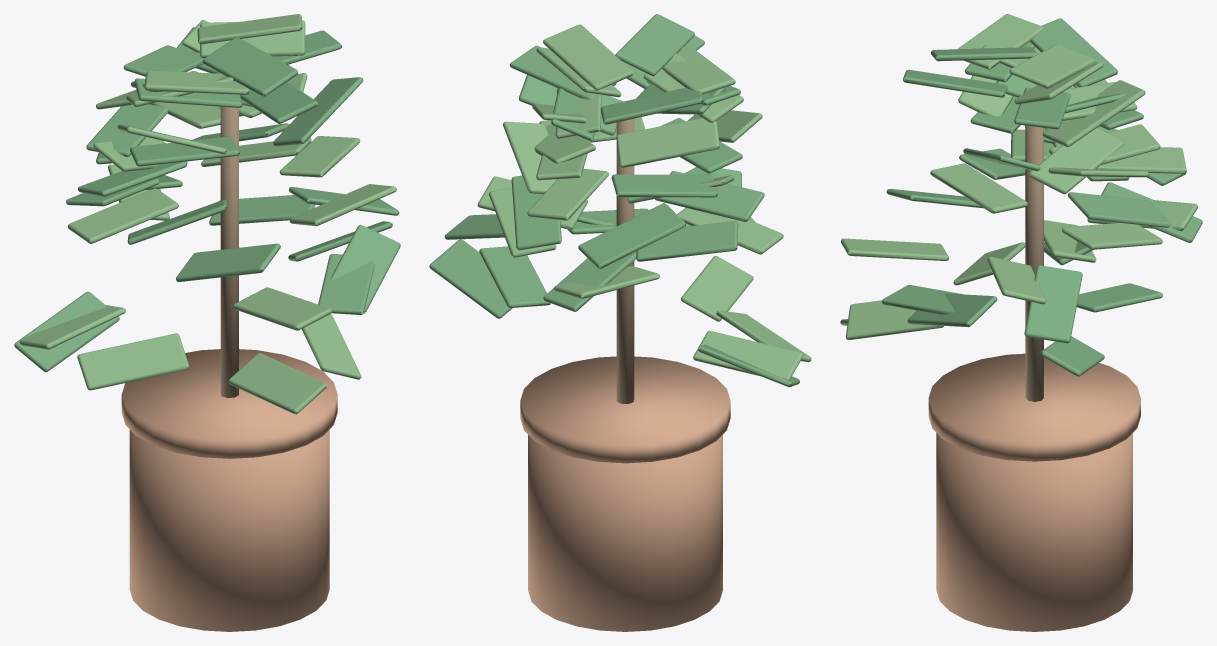
Rendered from mueble.planta.fbx.
The picture shows the model from 3 angles, left to right: view 1: azimuth 30°, elevation 25°; view 2: azimuth 150°, elevation 25°; view 3: azimuth 270°, elevation 25°; orthographic projection. The views are drawn at different scales.
Parts seen in each view (by area): view 1: Macetero, Borde del macetero, Tronco, Hoja.001, Hoja.029, Hoja.014, Hoja.041, Hoja.034, Hoja.022, Hoja.015, Hoja.008, Hoja.018 (+25 smaller); view 2: Macetero, Borde del macetero, Hoja.023, Tronco, Hoja.040, Hoja.005, Hoja.042, Hoja.014, Hoja.009, Hoja.044, Hoja.010, Hoja.029 (+28 smaller); view 3: Macetero, Borde del macetero, Tronco, Hoja.016, Hoja.043, Hoja.031, Hoja.003, Hoja.032, Hoja.005, Hoja.027, Hoja.011, Hoja.033 (+26 smaller).
Part boxes in pixels (box(x1,y1,x2,y2)): Macetero: box(129, 430, 329, 631); Borde del macetero: box(121, 349, 337, 458); Tronco: box(220, 106, 238, 397); Hoja.001: box(77, 333, 189, 390); Hoja.029: box(228, 353, 326, 414); Hoja.014: box(202, 37, 298, 96); Hoja.041: box(67, 188, 178, 243); Hoja.034: box(14, 291, 119, 372); Hoja.022: box(176, 243, 280, 281); Hoja.015: box(233, 287, 331, 330); Hoja.008: box(331, 225, 400, 313); Hoja.018: box(318, 254, 374, 314); Macetero: box(528, 435, 722, 631); Borde del macetero: box(520, 356, 730, 463); Hoja.023: box(616, 118, 719, 167); Tronco: box(616, 118, 634, 403); Hoja.040: box(578, 203, 685, 268); Hoja.005: box(543, 24, 633, 90); Hoja.042: box(429, 239, 512, 318); Hoja.014: box(615, 14, 694, 76); Hoja.009: box(693, 330, 803, 380); Hoja.044: box(636, 221, 738, 261); Hoja.010: box(479, 246, 550, 307); Hoja.029: box(681, 256, 753, 321); Macetero: box(936, 433, 1132, 631); Borde del macetero: box(928, 353, 1140, 461); Tronco: box(1025, 125, 1043, 401); Hoja.016: box(1024, 265, 1082, 343); Hoja.043: box(1028, 128, 1124, 194); Hoja.031: box(930, 163, 1027, 213); Hoja.003: box(846, 300, 943, 339); Hoja.032: box(1067, 192, 1170, 227); Hoja.005: box(1009, 44, 1095, 88); Hoja.027: box(1042, 80, 1145, 147); Hoja.011: box(1062, 222, 1162, 249); Hoja.033: box(957, 14, 1043, 69).
Size of the model in its own units: 0.8155 by 1.17 by 0.6996.
